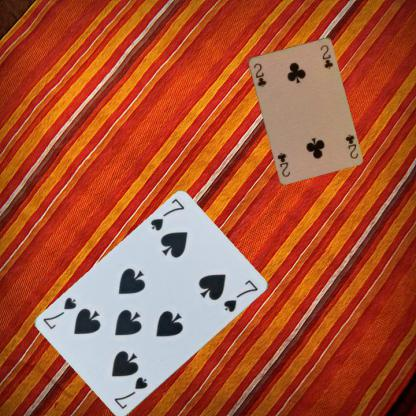2c: (250, 61, 268, 88), (342, 132, 360, 159)
7s: (147, 196, 186, 233), (111, 374, 149, 411)
